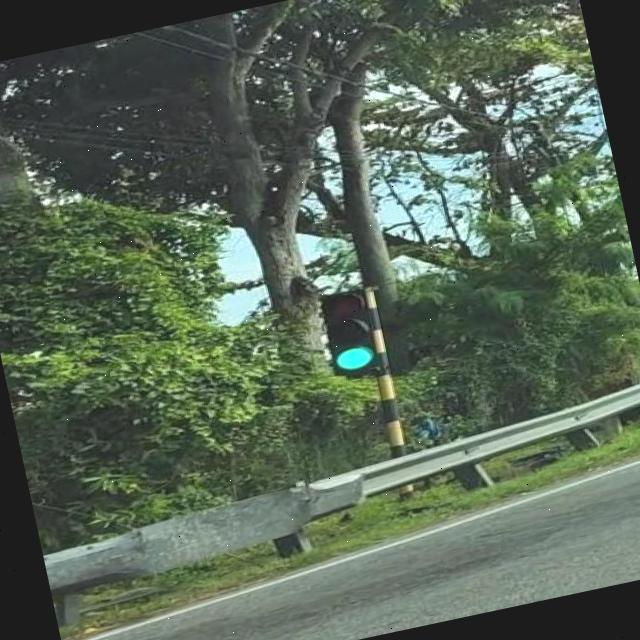green_light: (313, 286, 377, 379)
